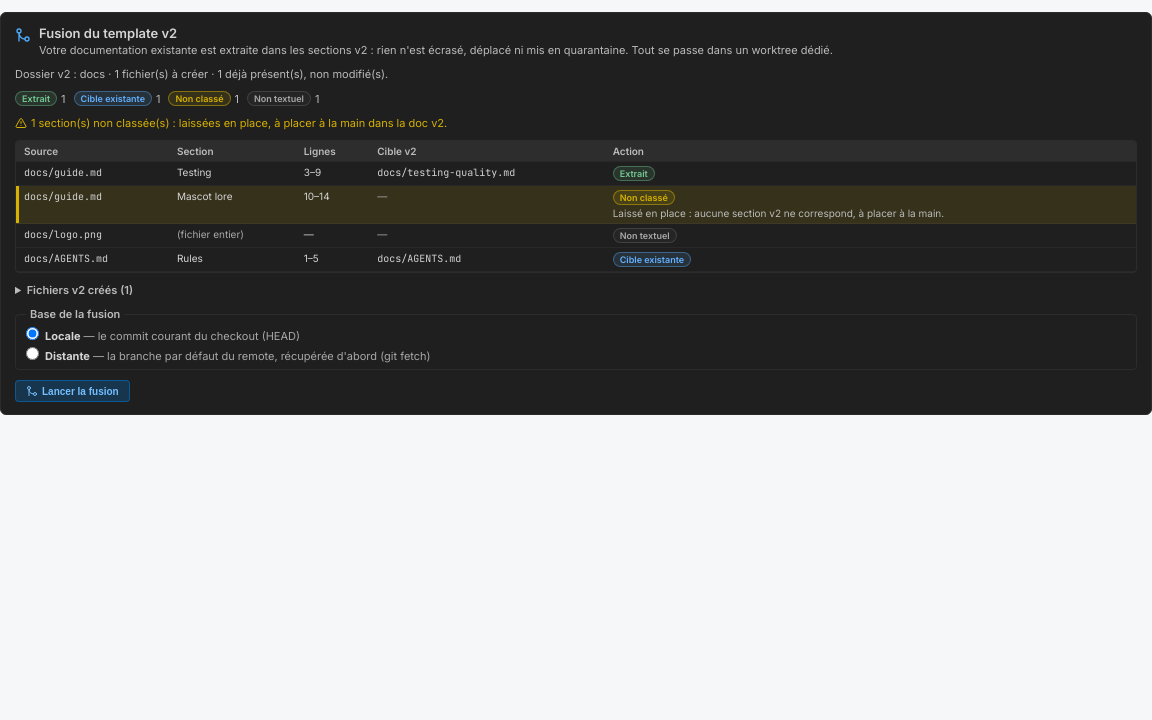
TemplateMergePanel — plan warnings › shows what a remote-base plan warns about once the merge ran
This screenshot has width=1152, height=720.
Click the button with test id "template-merge-launch" at x=72, y=391, box [15,380,130,402]
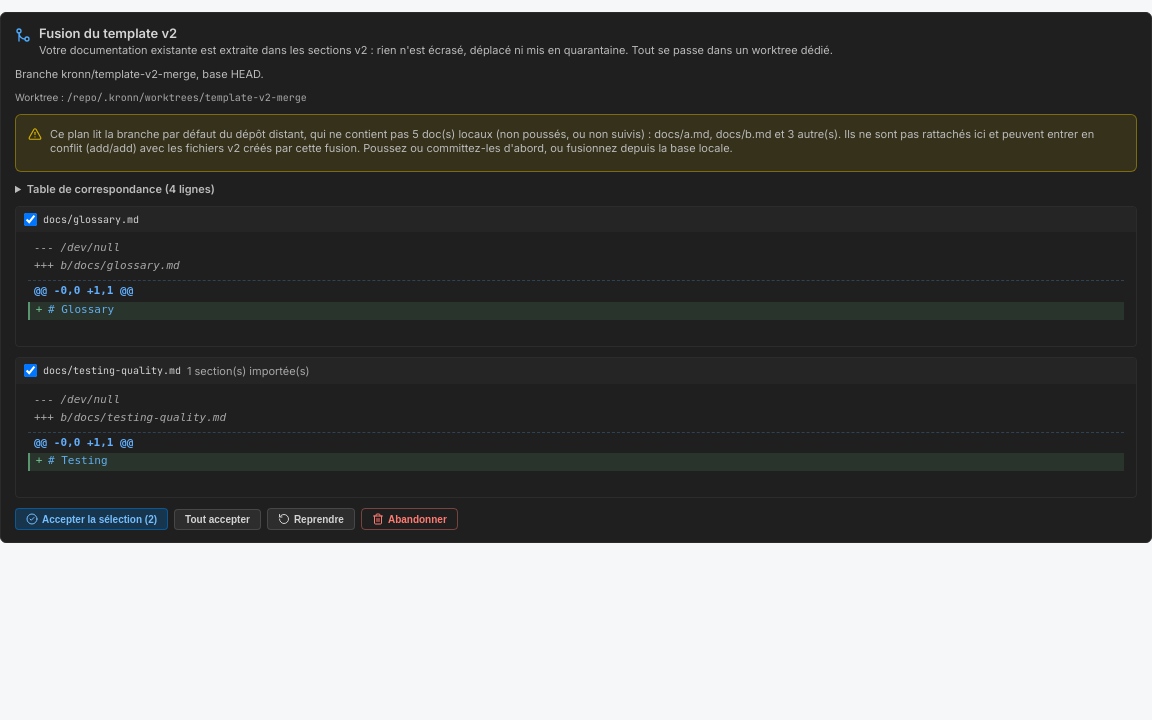
Expected: the message with test id "template-merge-warnings" shows "docs/a.md, docs/b.md", [50,127,1094,155]
Expected: the message with test id "template-merge-warnings" shows "5 doc(s) locaux", [50,127,1094,155]
Expected: the message with test id "template-merge-warnings" shows "et 3 autre(s)", [50,127,1094,155]
